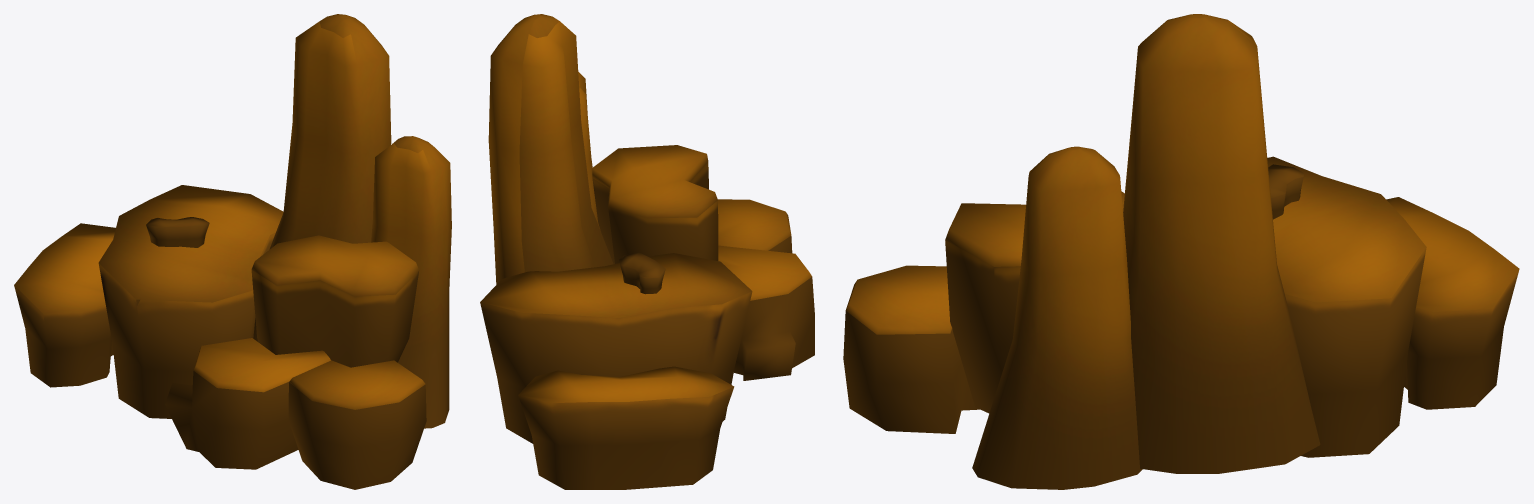
File: rocks.fbx
The picture shows the model from 3 angles, left to right: view 1: azimuth 30°, elevation 25°; view 2: azimuth 150°, elevation 25°; view 3: azimuth 270°, elevation 25°; orthographic projection. The views are drawn at different scales.
Parts seen in each view (by area): view 1: Rock; view 2: Rock; view 3: Rock.
Boxes of the visible parts, x1,y1,x2,y2 form: Rock: (14,14,451,489); Rock: (480,14,814,489); Rock: (843,14,1519,489).
Size of the model in its own units: 157 by 177 by 236.
